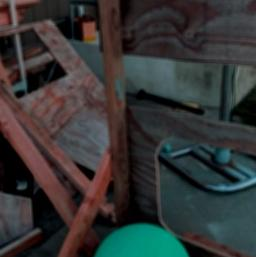algae: (87, 220, 194, 257)
